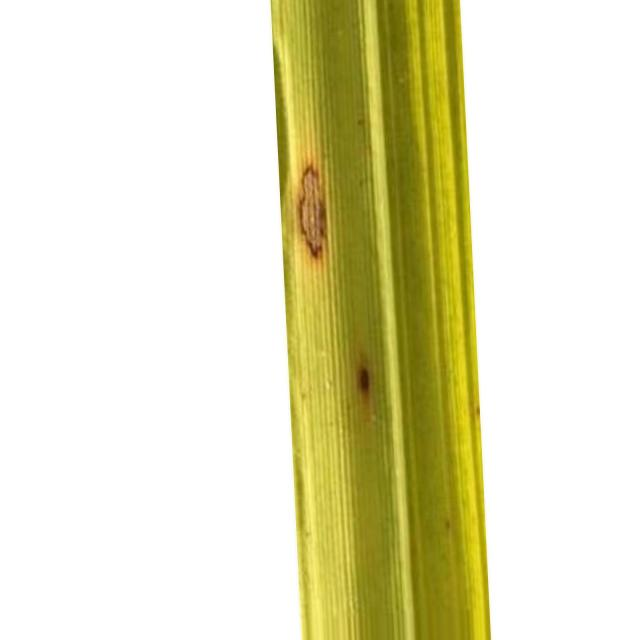Brown_Spot: (299, 165, 326, 258), (356, 365, 371, 396)
